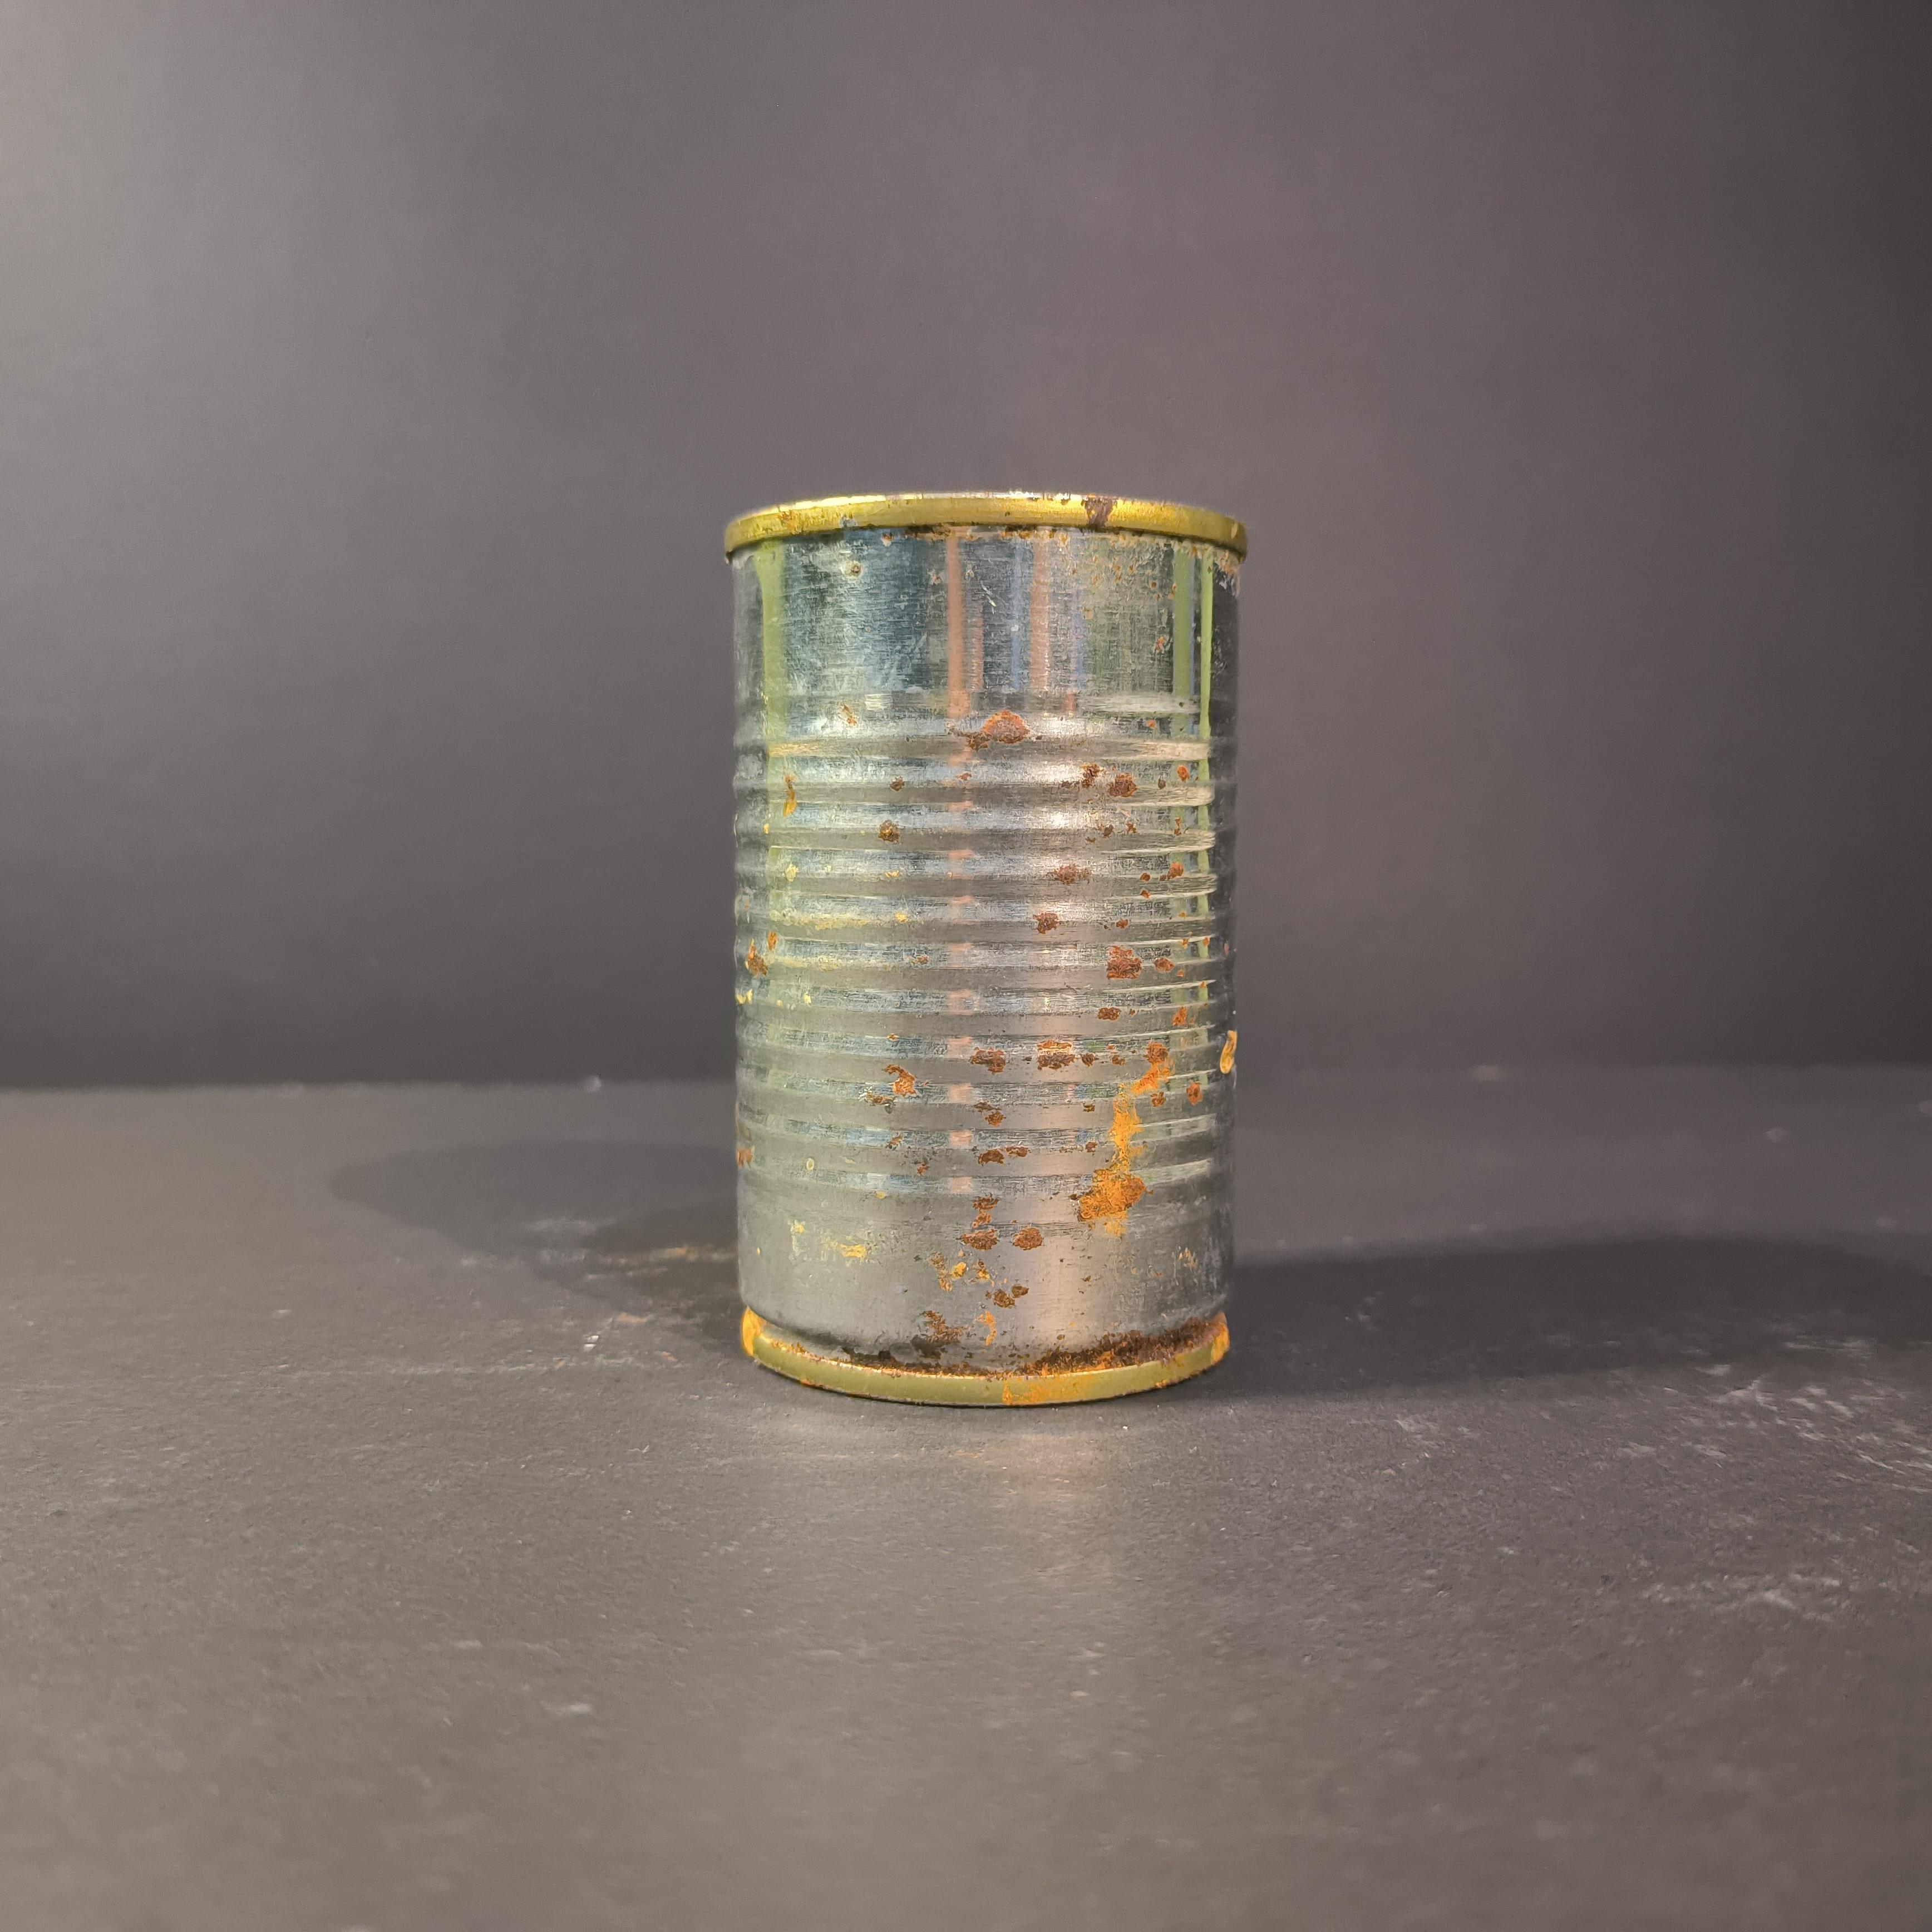Rusted: (701, 472, 1283, 1428)
